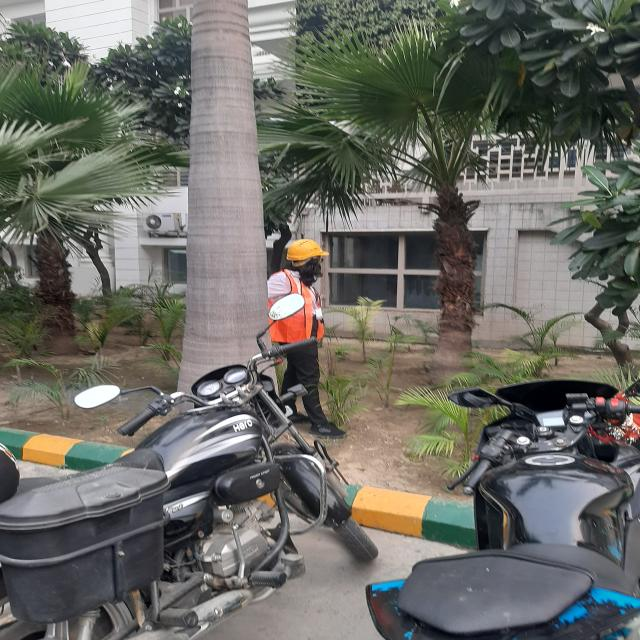safe: (272, 232, 347, 446)
